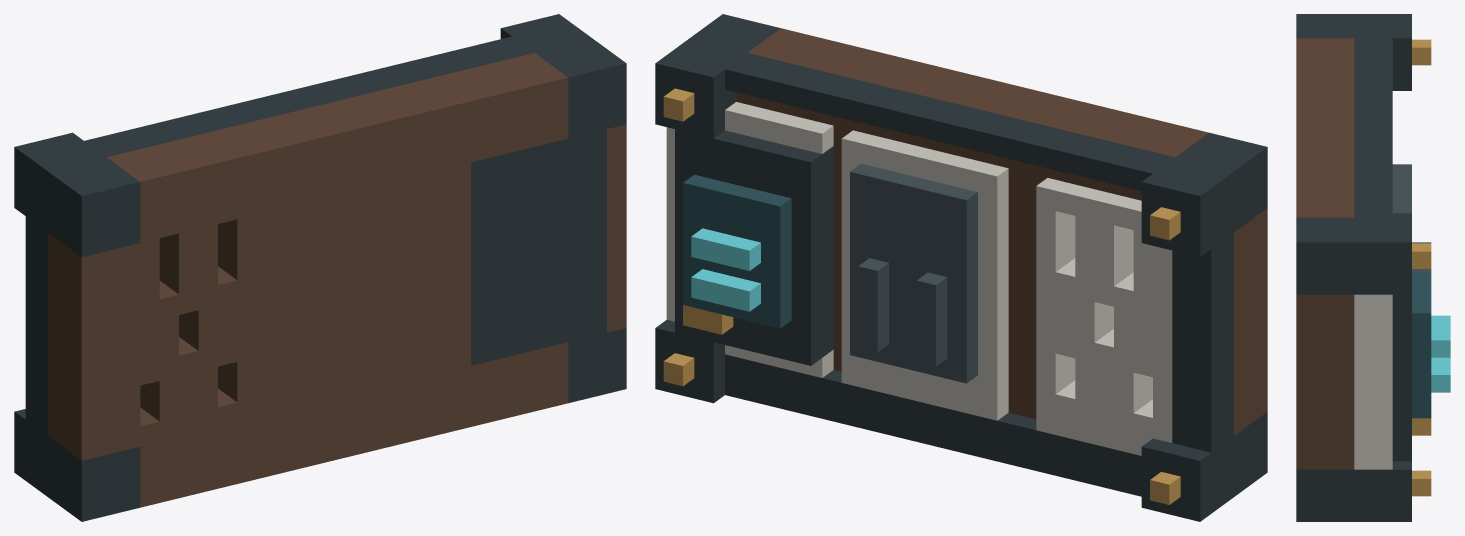
3 renders of one model, left to right at view 1: azimuth 30°, elevation 25°; view 2: azimuth 150°, elevation 25°; view 3: azimuth 270°, elevation 25°, orthographic. The views are drawn at different scales.
Visible parts, largest first — view 1: 室内电源/控制面板; view 2: 室内电源/控制面板; view 3: 室内电源/控制面板.
Boxes of the visible parts, <box> form: 室内电源/控制面板: <box>14,14,626,521</box>; 室内电源/控制面板: <box>655,14,1267,521</box>; 室内电源/控制面板: <box>1296,14,1450,521</box>.
Size of the model in its own units: 0.28 by 0.16 by 0.08.
7 materials, 7 textured.
